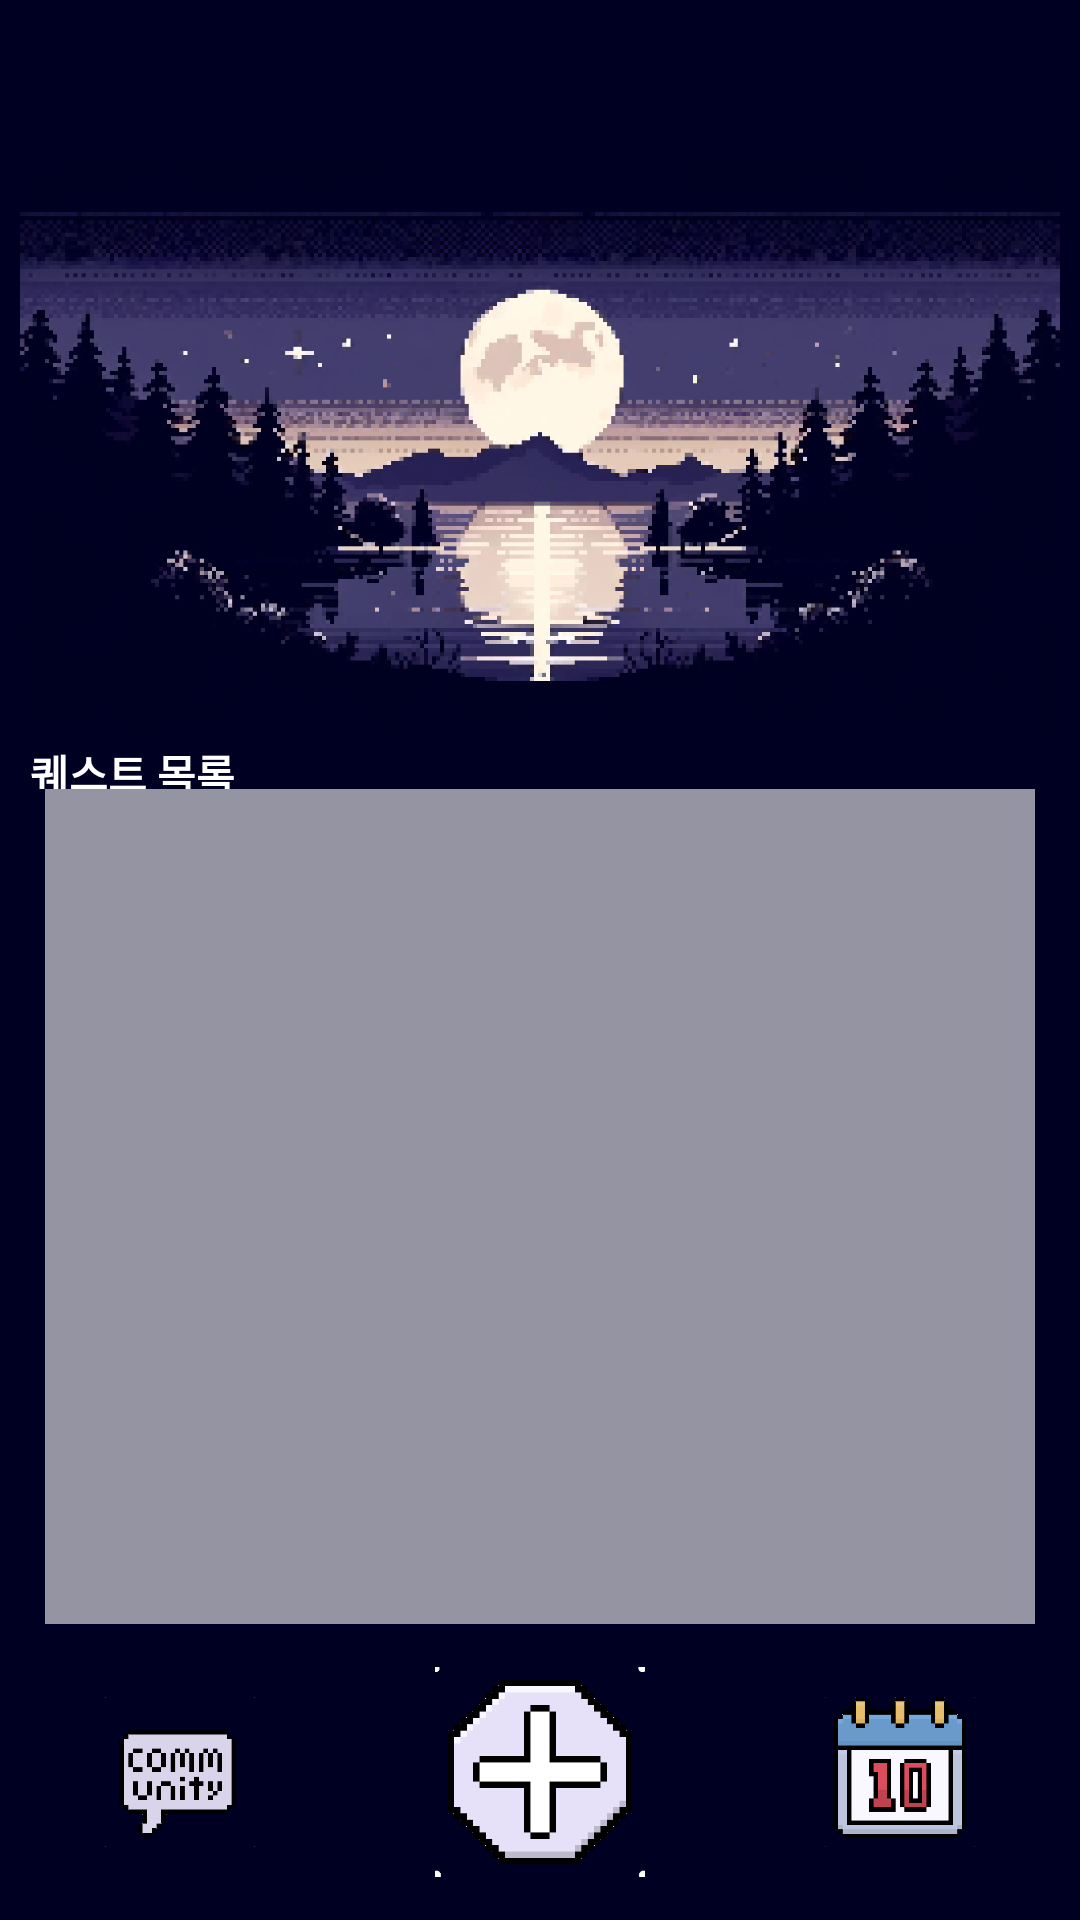

Screen size 1080 x 1920. Icon name, then its center in pixels as (x=x, y=y):
diary main adddiary: (x=540, y=1772)
diary main date: (x=900, y=1772)
